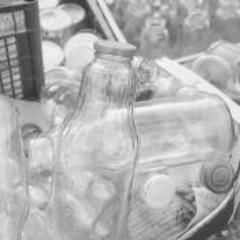glass: (54, 39, 140, 240)
